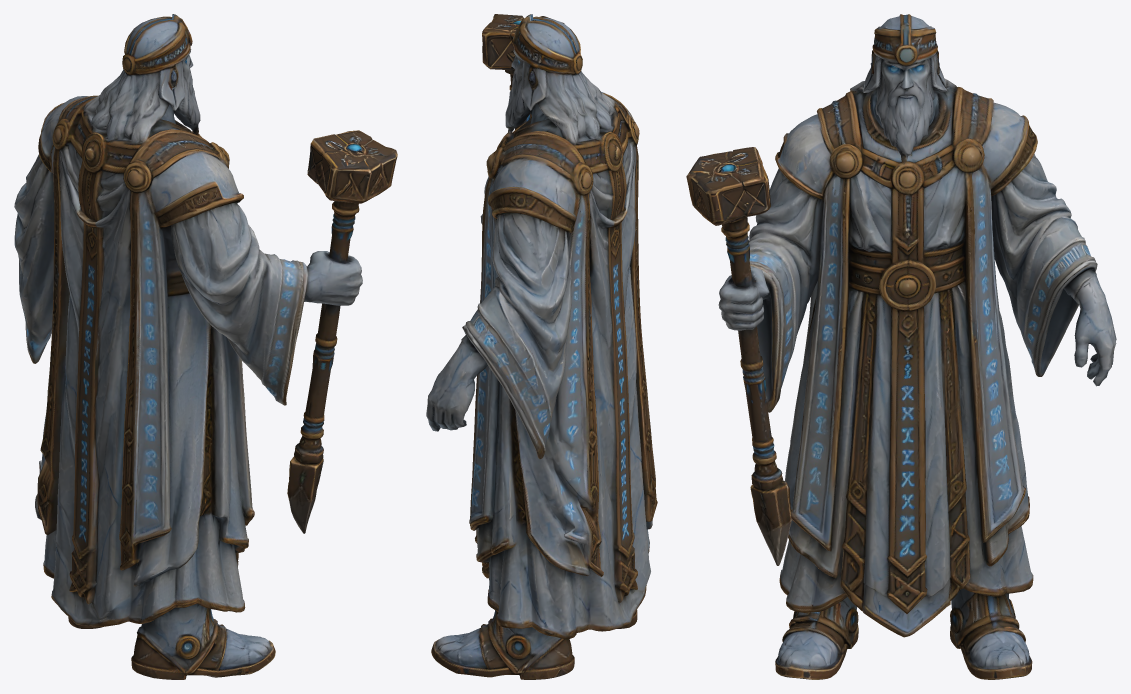
Rendered from LastCarver-tripo.glb.
The picture shows the model from 3 angles, left to right: view 1: azimuth 30°, elevation 25°; view 2: azimuth 150°, elevation 25°; view 3: azimuth 270°, elevation 25°; orthographic projection. The views are drawn at different scales.
Parts seen in each view (by area): view 1: tripo_node_9fc87160-b50b-40d1-92ad-2ff38531ee4b; view 2: tripo_node_9fc87160-b50b-40d1-92ad-2ff38531ee4b; view 3: tripo_node_9fc87160-b50b-40d1-92ad-2ff38531ee4b.
Part boxes in pixels (box(x1,y1,x2,y2)): tripo_node_9fc87160-b50b-40d1-92ad-2ff38531ee4b: box(14, 14, 397, 679); tripo_node_9fc87160-b50b-40d1-92ad-2ff38531ee4b: box(426, 14, 657, 679); tripo_node_9fc87160-b50b-40d1-92ad-2ff38531ee4b: box(686, 14, 1116, 679).
Bounding box in the file's own units: 0.3901 × 1 × 0.6078.
Materials: 1 (1 with a texture image).
